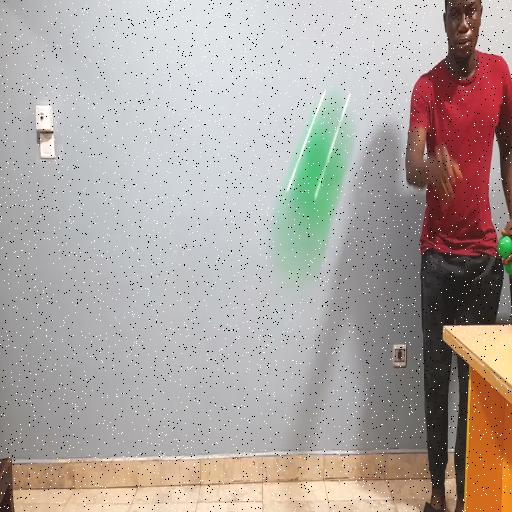plastic-ball: (268, 83, 359, 287)
